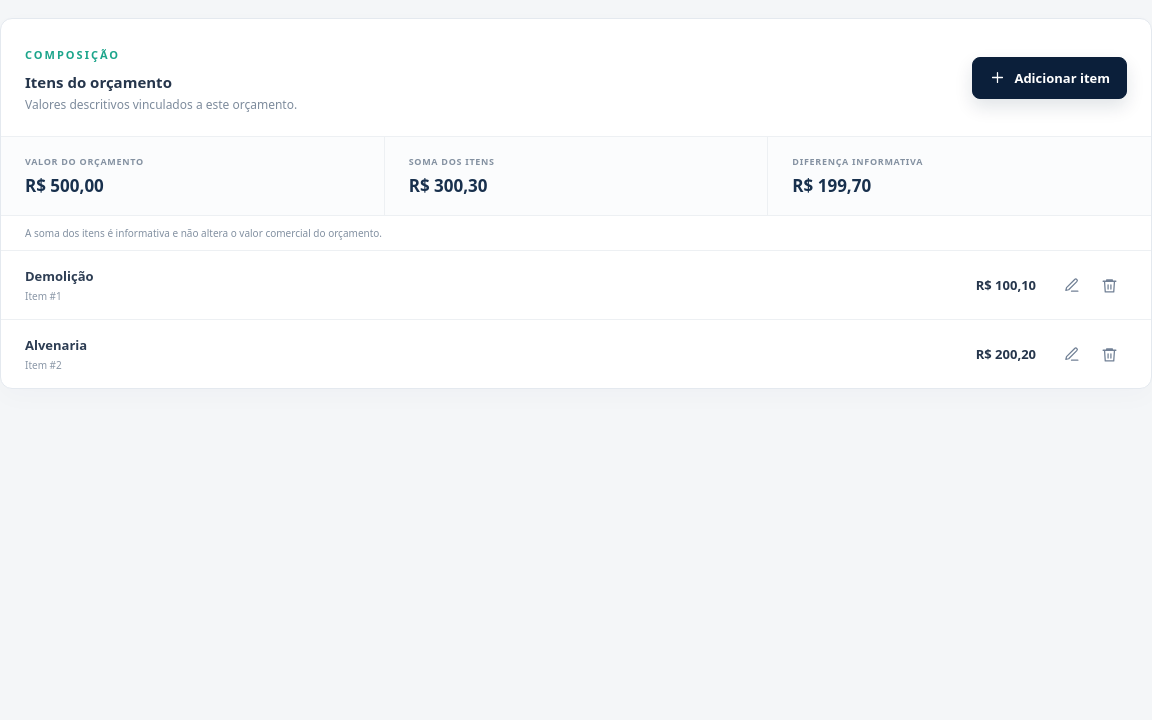
itens do orçamento › edita um item e mantém o orçamento contextual
Click the button named "Editar Demolição": {"x": 1072, "y": 285} [1054, 268, 1089, 302]
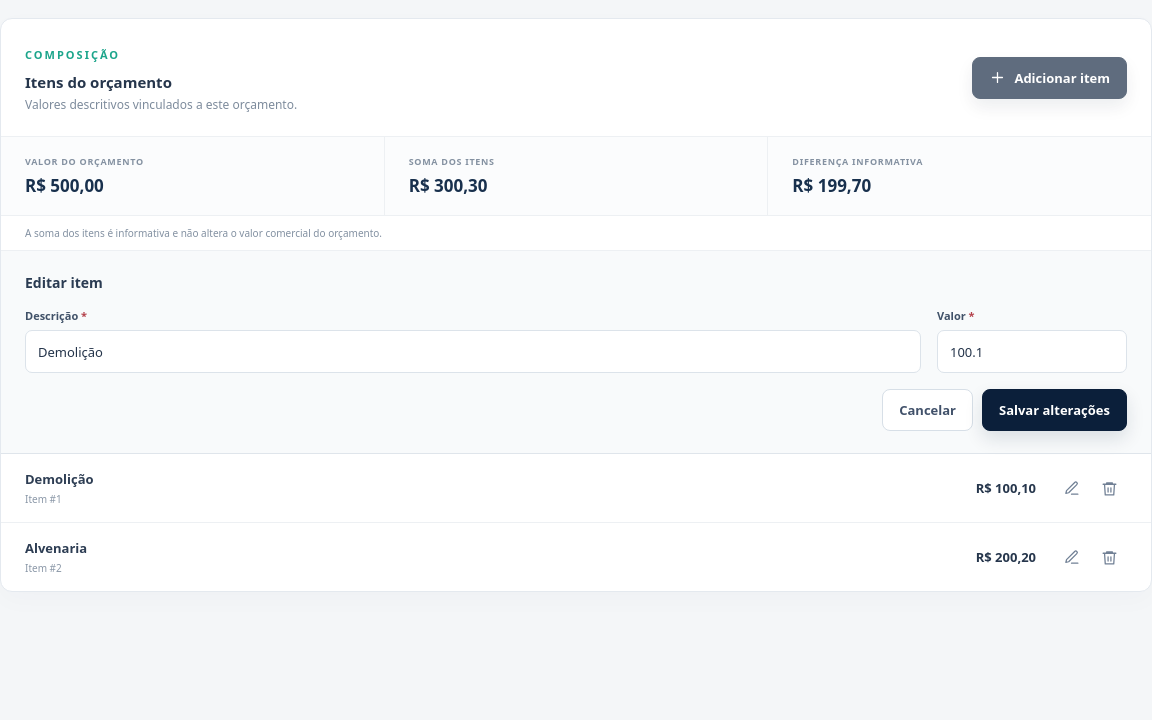
Replace the text in the field labelled "Descrição *" with "Demolição revisada": {"x": 473, "y": 352} [25, 330, 921, 373]
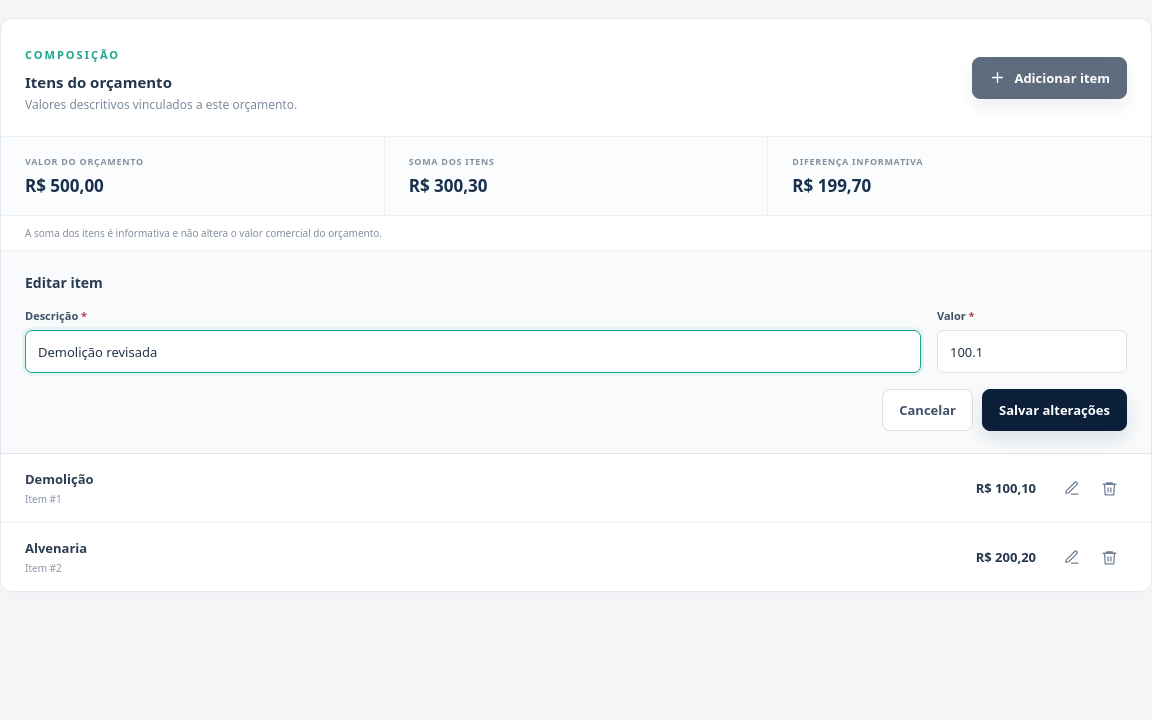
Click the button "Salvar alterações": {"x": 1054, "y": 410} [982, 389, 1127, 431]
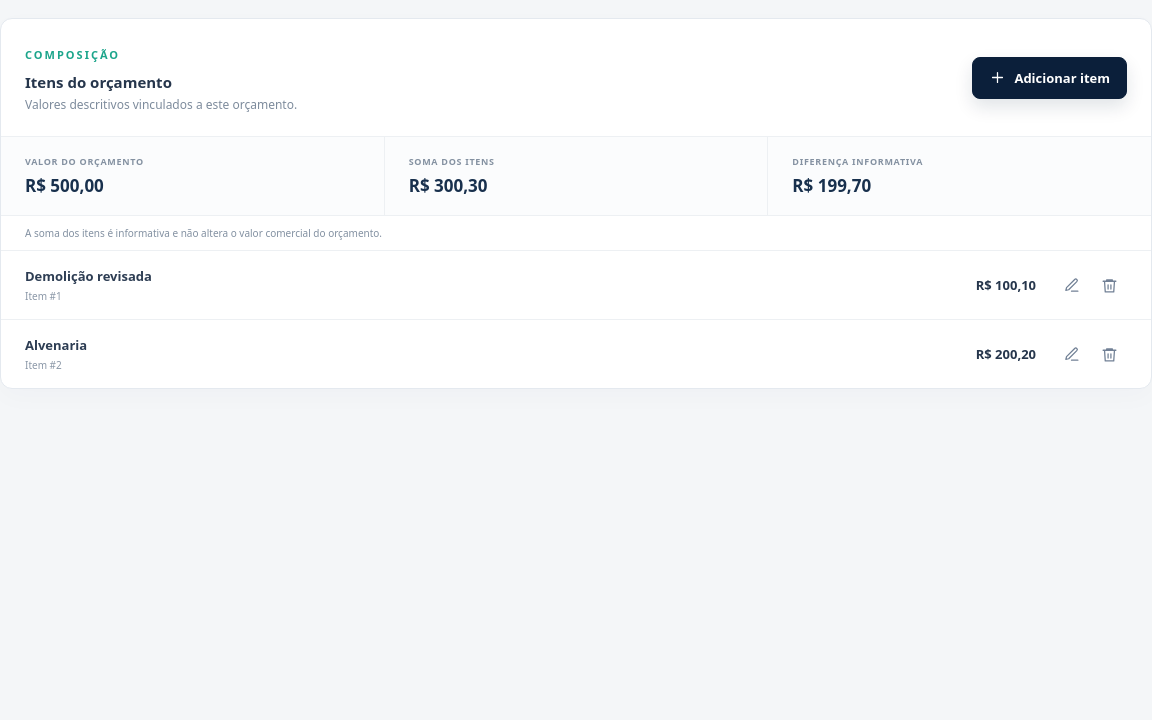
Now the text "Demolição revisada" is shown, box [25, 267, 152, 285]
